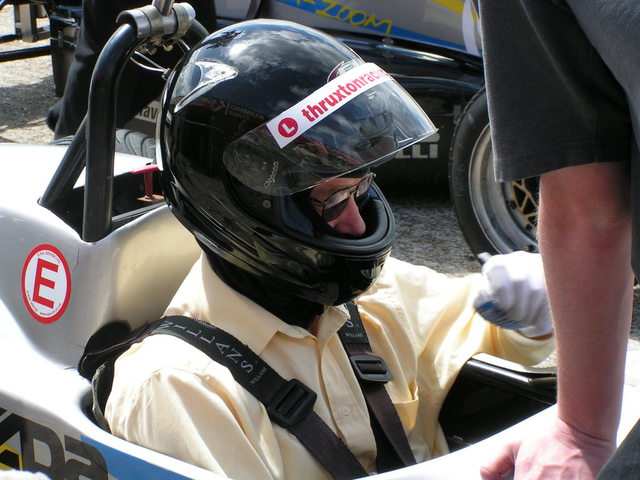helmet: (169, 27, 412, 291)
